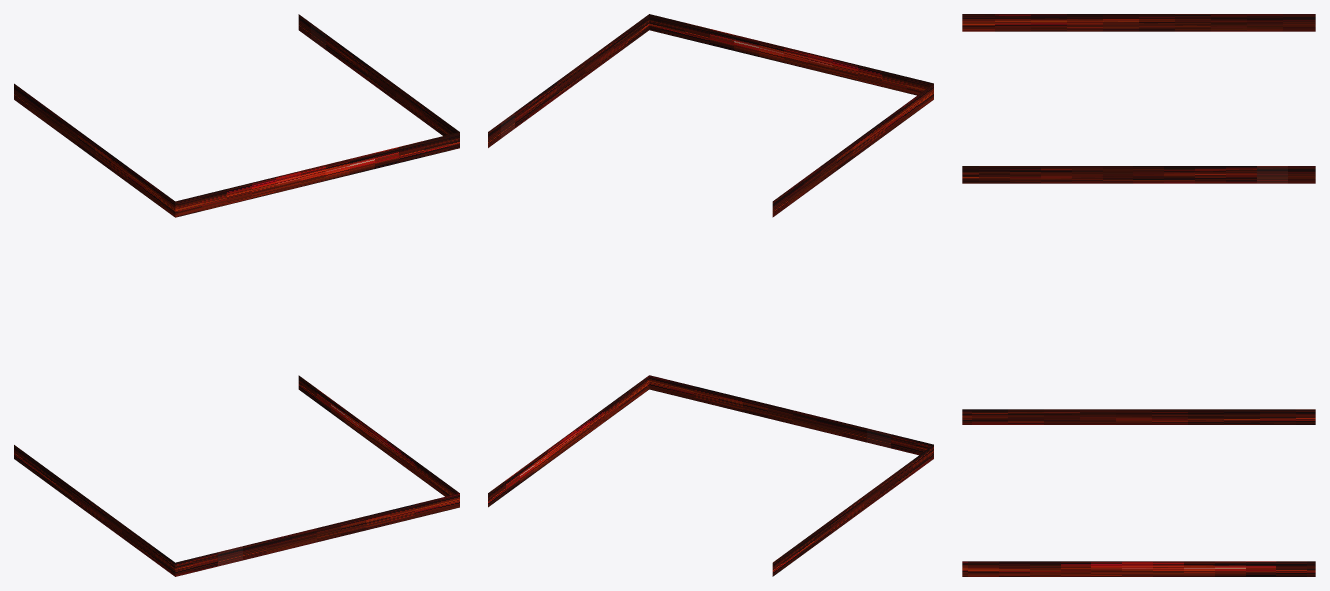
3 renders of one model, left to right at view 1: azimuth 30°, elevation 25°; view 2: azimuth 150°, elevation 25°; view 3: azimuth 270°, elevation 25°, orthographic. The views are drawn at different scales.
Parts seen in each view (by area): view 1: SMDImport1; view 2: SMDImport1; view 3: SMDImport1.
Boxes of the visible parts, left/top/right/bottom form: SMDImport1: left=14, top=14, right=459, bottom=576; SMDImport1: left=488, top=14, right=933, bottom=576; SMDImport1: left=962, top=14, right=1315, bottom=576.
Size of the model in its own units: 185 by 233 by 181.
1 material, 1 textured.
